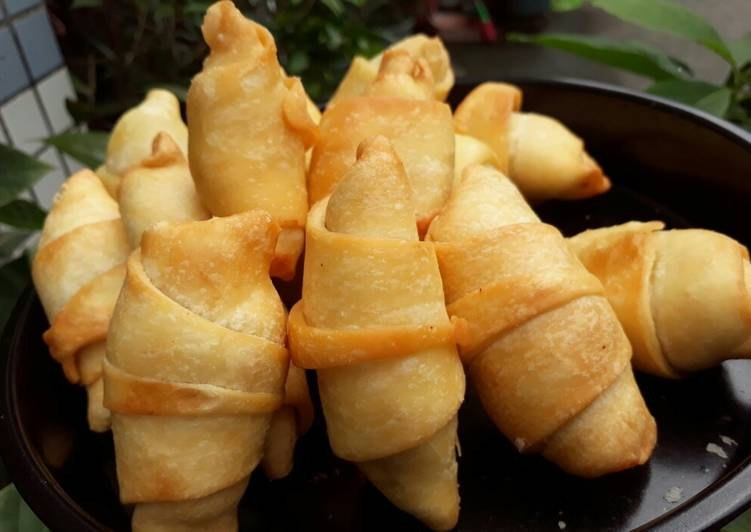pisang_molen: (421, 164, 658, 477), (282, 143, 465, 530), (102, 209, 288, 532)
